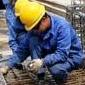gloves: (28, 57, 43, 72), (1, 1, 1, 1)
hard-hat: (19, 1, 46, 31)
ppe-suit: (5, 13, 85, 82)
